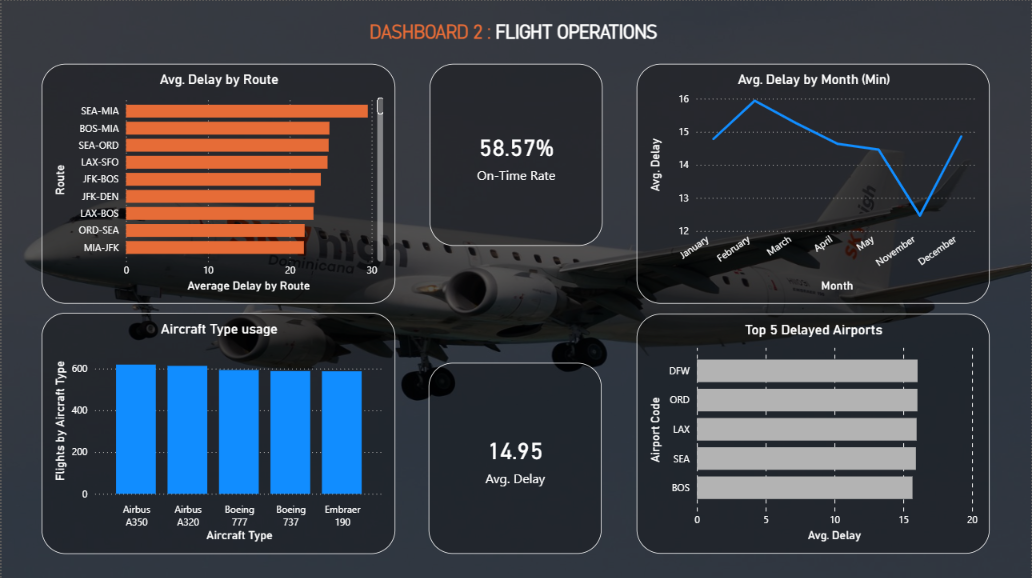

Layout of this report page (visuals, bound fields, positions):
{"tool":"powerbi","page":{"name":"Page 2","canvas":[1280,720],"ordinal":1},"visuals":[{"type":"textbox","box":[452.8,19.9,371.9,38.6],"z":0},{"type":"clusteredBarChart","title":"Avg. Delay by Route","fields":{"Category":["Airline_Flights.Route"],"Y":["Airline_Flights.Average Delay by Route"]},"box":[49.8,78.4,440.4,298.6],"z":1000},{"type":"lineChart","title":"Avg. Delay by Month (Min)","fields":{"Category":["Airline_Flights.Date.Variation.Date Hierarchy.Month"],"Y":["Airline_Flights.Avg. Delay"]},"box":[789.9,78.4,439.1,298.6],"z":2000},{"type":"columnChart","title":"Aircraft Type usage","fields":{"Category":["Airline_Flights.Aircraft Type"],"Y":["Airline_Flights.Flights by Aircraft Type"]},"box":[49.8,388.1,440.4,299.8],"z":3000},{"type":"clusteredBarChart","title":"Top 5 Delayed Airports","fields":{"Category":["Airline_Airports.Airport Code"],"Y":["Airline_Flights.Average Delay"]},"box":[789.9,389.4,439.1,298.6],"z":4000},{"type":"card","fields":{"Values":["Airline_Flights.On-Time Rate"]},"box":[532.4,78.4,215.2,226.4],"z":5000},{"type":"card","fields":{"Values":["Airline_Flights.Avg. Delay"]},"box":[531.2,450.3,215.2,237.6],"z":6000}]}

Visuals, with their boxes in screenshot pixels (x1, y1, x2, y2), scaled from the page's 1280x720 canvas onto the 1032x578 screenshot:
textbox: detection(365, 16, 665, 47)
"Avg. Delay by Route" clusteredBarChart: detection(40, 63, 395, 303)
"Avg. Delay by Month (Min)" lineChart: detection(637, 63, 991, 303)
"Aircraft Type usage" columnChart: detection(40, 312, 395, 552)
"Top 5 Delayed Airports" clusteredBarChart: detection(637, 313, 991, 552)
card - Airline_Flights.On-Time Rate: detection(429, 63, 603, 245)
card - Airline_Flights.Avg. Delay: detection(428, 361, 602, 552)
